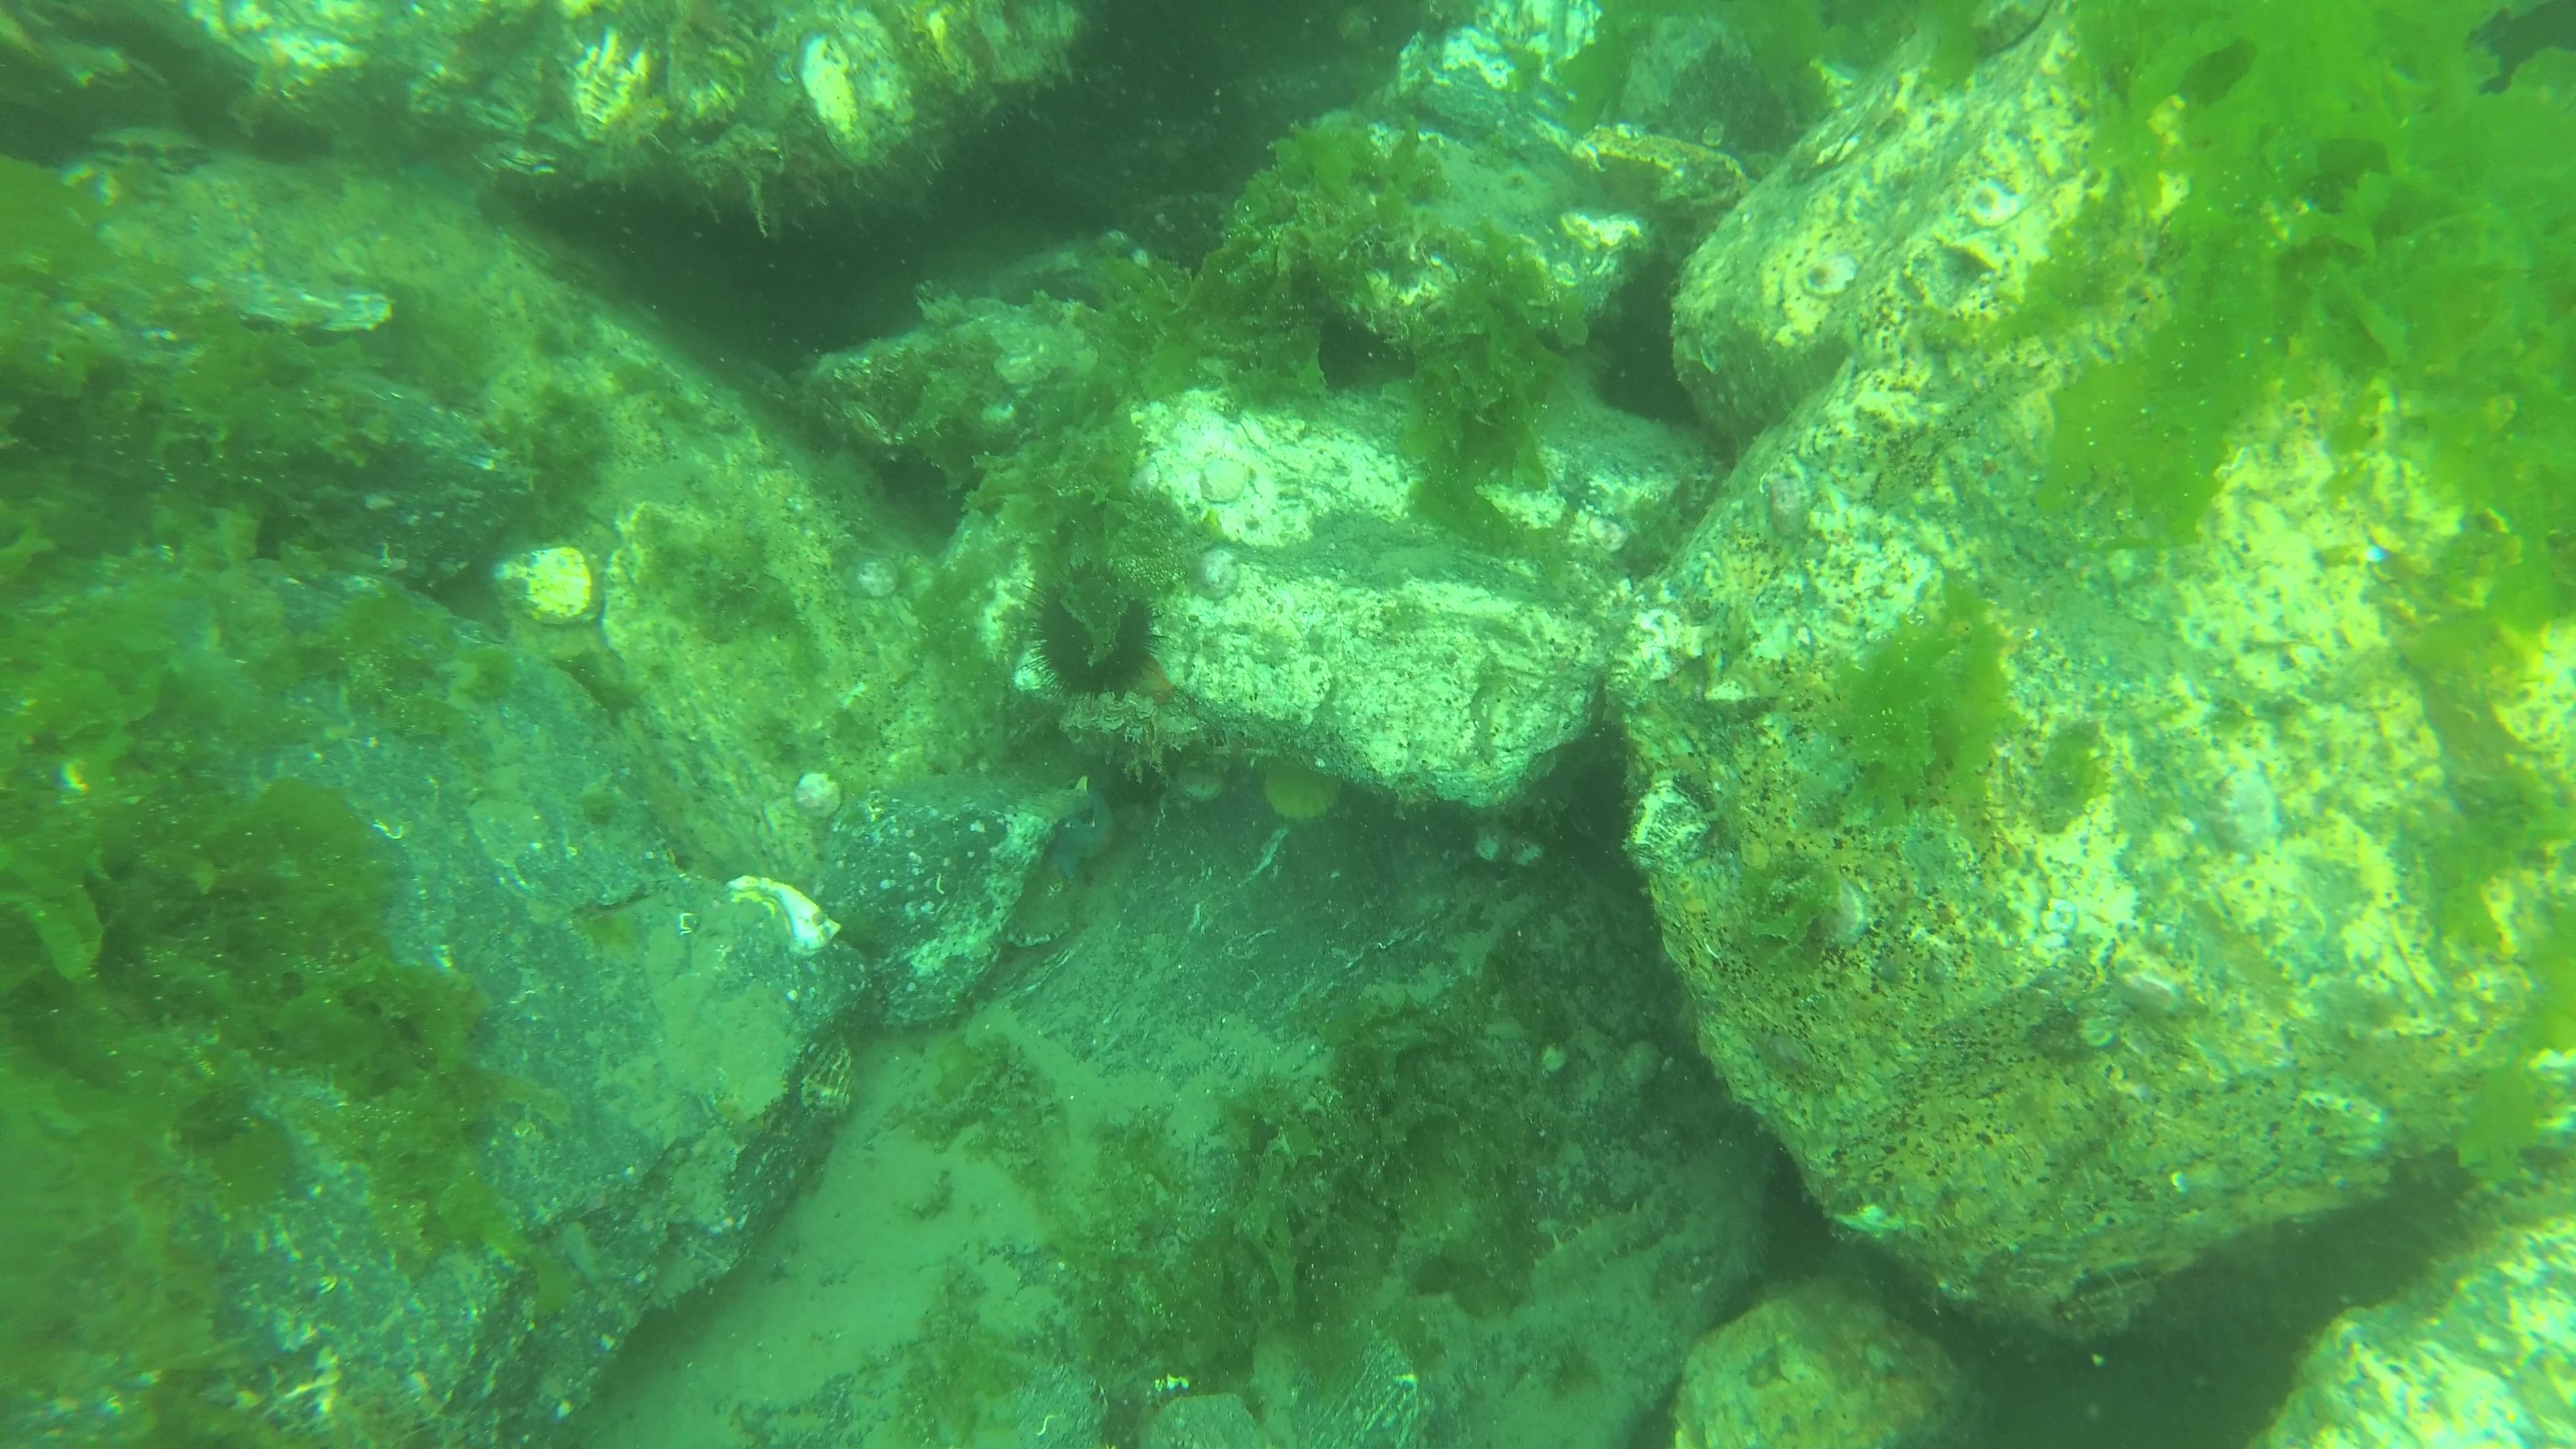echinus: (1016, 563, 1173, 711)
